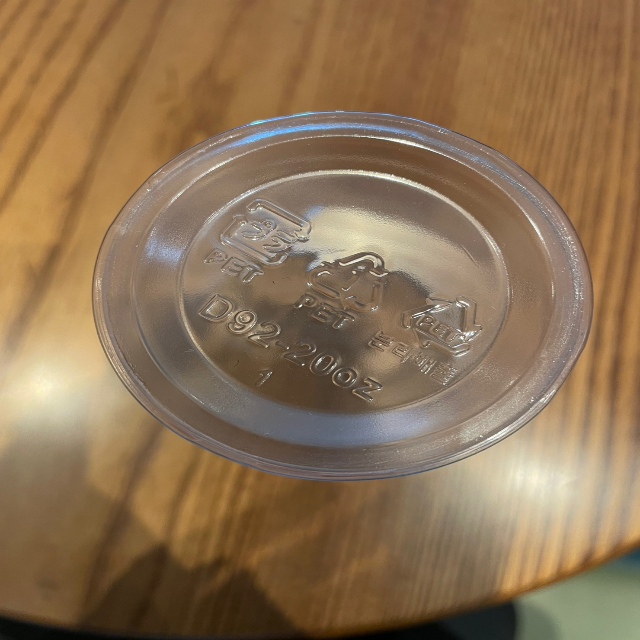pet: (367, 287, 496, 391), (197, 193, 316, 292), (292, 246, 393, 336)
